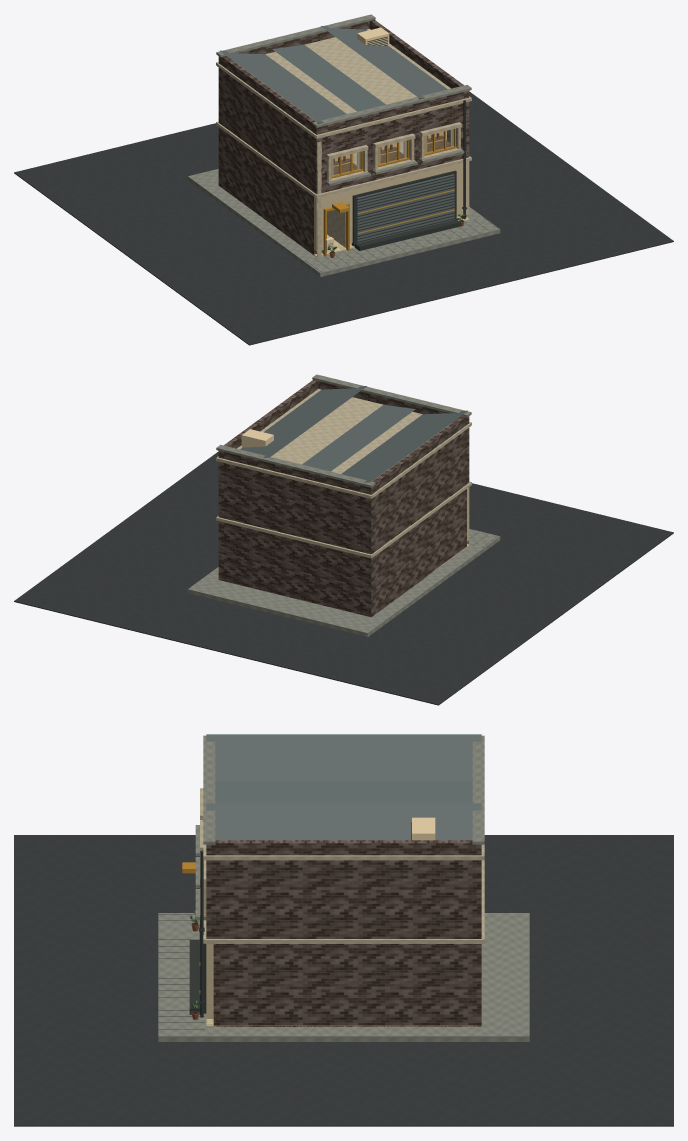
File: service-workshop.glb
The picture shows the model from 3 angles, top to bottom: view 1: azimuth 30°, elevation 25°; view 2: azimuth 150°, elevation 25°; view 3: azimuth 270°, elevation 25°; orthographic projection. The views are drawn at different scales.
Parts seen in each view (by area): view 1: Street asphalt, Architecture charcoal-brick, Architecture shutter, Architecture plaster, Street stone, Props iron, Architecture cream-render, Architecture stone, Windows plaster, Architecture iron, Glass glass, Windows mustard (+4 smaller); view 2: Street asphalt, Architecture charcoal-brick, Architecture shutter, Street stone, Architecture plaster, Architecture stone; view 3: Street asphalt, Architecture charcoal-brick, Architecture shutter, Street stone, Architecture plaster, Architecture stone, Architecture iron, Props iron, Architecture cream-render, Props enamel.
Part boxes in pixels (x1,y1,x2,y2): Street asphalt: (14,91,673,345); Architecture charcoal-brick: (218,19,469,254); Architecture shutter: (220,26,454,243); Architecture plaster: (216,29,471,257); Street stone: (187,169,500,276); Props iron: (328,36,465,247); Architecture cream-render: (314,161,469,251); Architecture stone: (216,14,471,127); Windows plaster: (326,122,461,182); Architecture iron: (351,155,467,250); Glass glass: (332,129,453,175); Windows mustard: (331,128,456,178); Street asphalt: (14,451,673,705); Architecture charcoal-brick: (218,379,469,617); Architecture shutter: (240,386,467,482); Street stone: (187,529,500,636); Architecture plaster: (216,389,471,558); Architecture stone: (216,374,471,487); Street asphalt: (14,835,673,1126); Architecture charcoal-brick: (206,840,481,1026); Architecture shutter: (206,734,481,840); Street stone: (158,913,529,1041); Architecture plaster: (203,844,484,943); Architecture stone: (203,735,484,844); Architecture iron: (189,927,206,1014); Props iron: (199,822,411,1017); Architecture cream-render: (206,944,213,1018); Props enamel: (198,817,435,924).
Size of the model in its own units: 25 by 7.85 by 24.
Materials: 21 (7 with a texture image).
